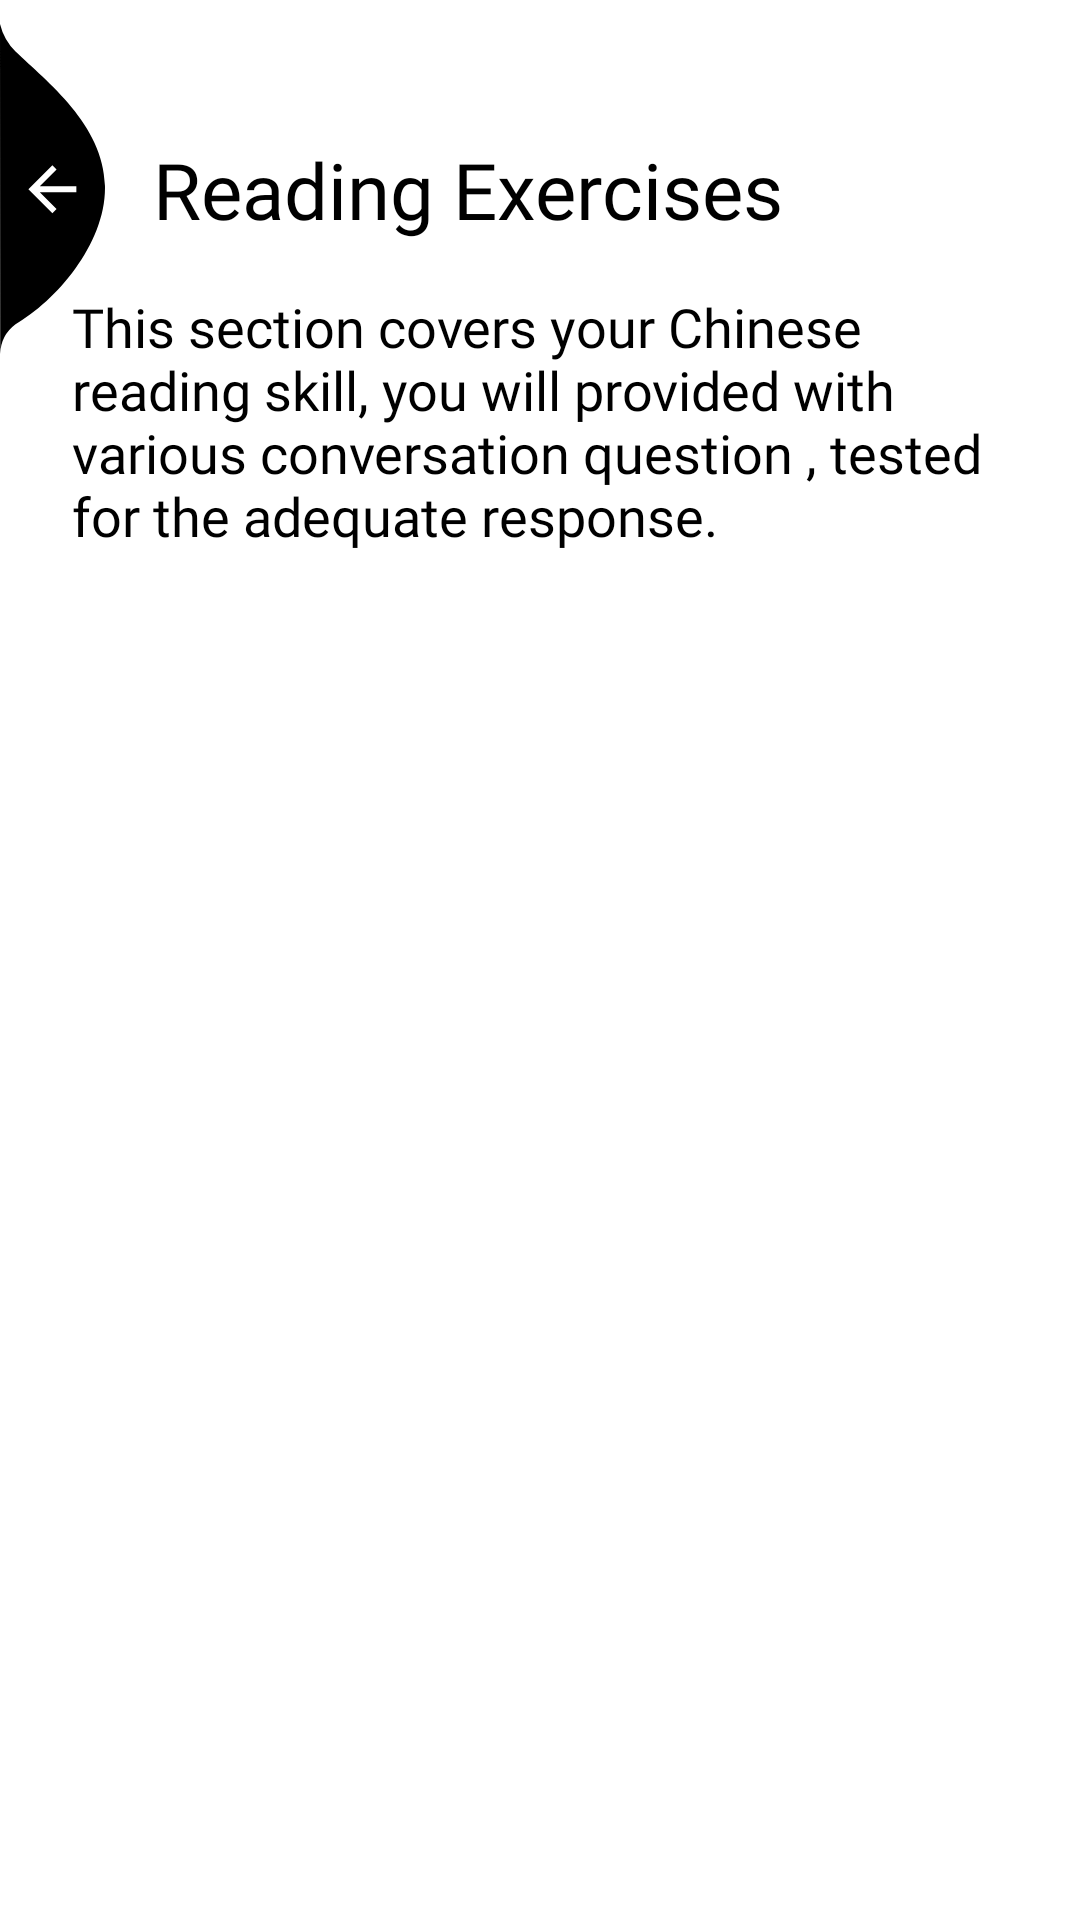

Icon bounding boxes for this 1080x1920 phone screenshot, format {"left": x1, "top": y1, "right": x2, "bottom": y2}:
back: {"left": 0, "top": 24, "right": 105, "bottom": 353}
